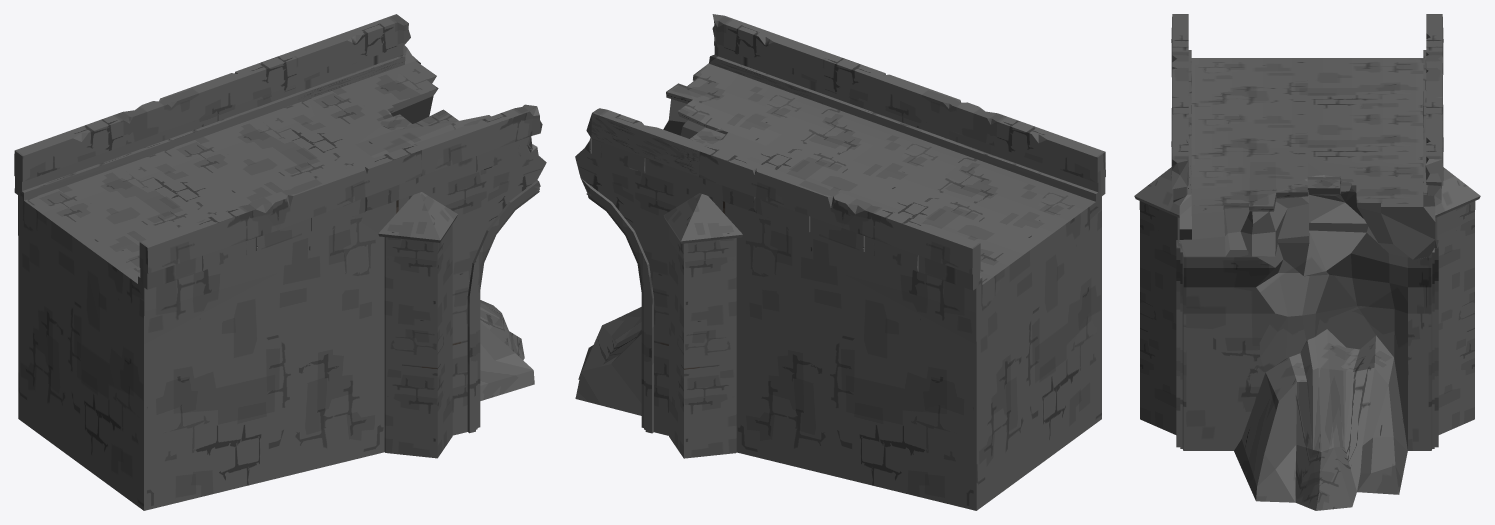
File: SM_Env_Bridge_Damaged_Ramp.fbx
3 renders of one model, left to right at view 1: azimuth 30°, elevation 25°; view 2: azimuth 150°, elevation 25°; view 3: azimuth 270°, elevation 25°, orthographic.
Visible parts, largest first — view 1: SM_Env_Bridge_Damaged_Ramp, SM_Env_City_Road; view 2: SM_Env_Bridge_Damaged_Ramp, SM_Env_City_Road; view 3: SM_Env_Bridge_Damaged_Ramp, SM_Env_City_Road.
Part boxes in pixels (x1,y1,x2,y2): SM_Env_Bridge_Damaged_Ramp: (14, 14, 546, 510); SM_Env_City_Road: (24, 61, 490, 283); SM_Env_Bridge_Damaged_Ramp: (575, 14, 1105, 510); SM_Env_City_Road: (666, 63, 1095, 284); SM_Env_Bridge_Damaged_Ramp: (1134, 14, 1480, 510); SM_Env_City_Road: (1191, 58, 1423, 206).
Bounding box in the file's own units: 10.38 × 6.99 × 6.86.
Materials: 1 (1 with a texture image).
